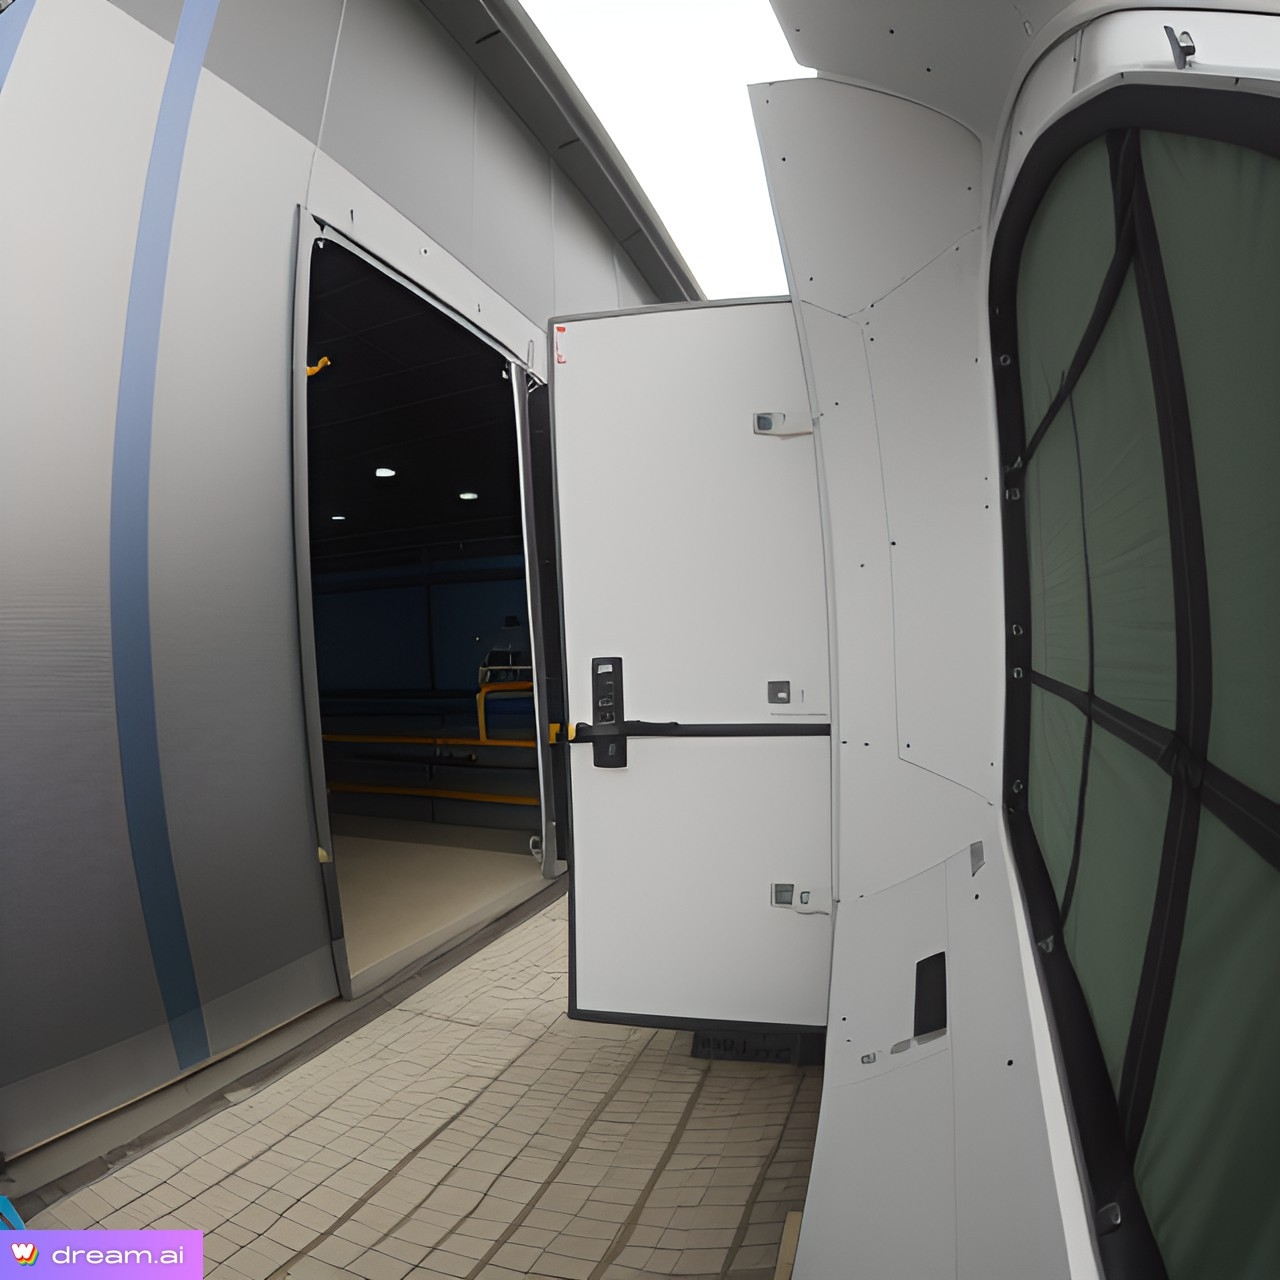door_front: (533, 294, 865, 1065)
